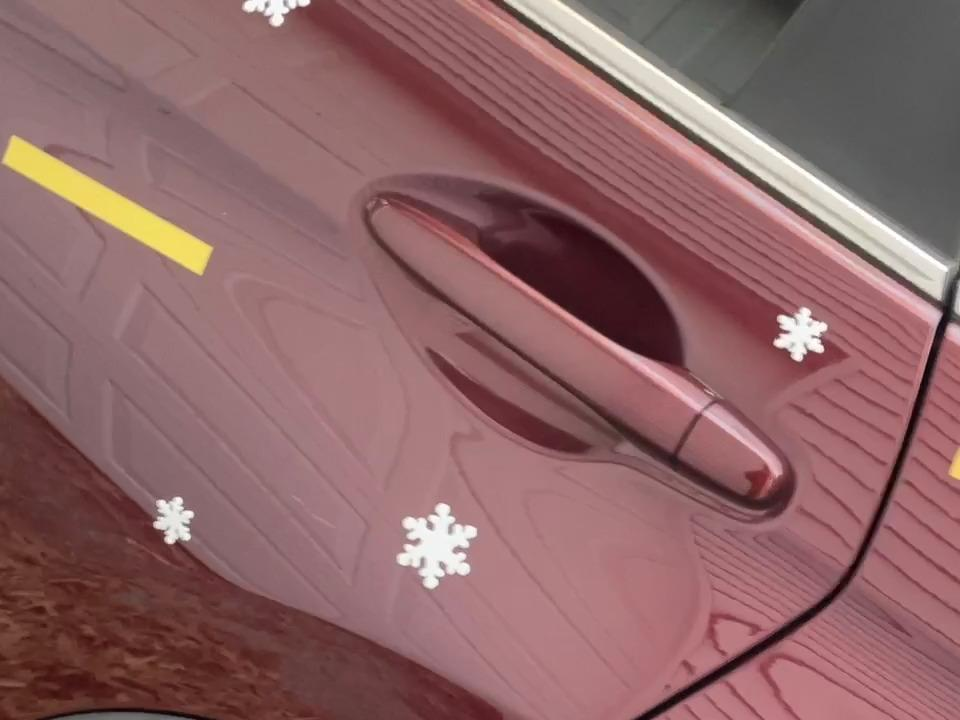dent: (389, 491, 494, 591), (764, 299, 837, 375), (141, 489, 209, 555), (756, 716, 861, 720)
scratch: (6, 124, 222, 283), (943, 436, 960, 590)
